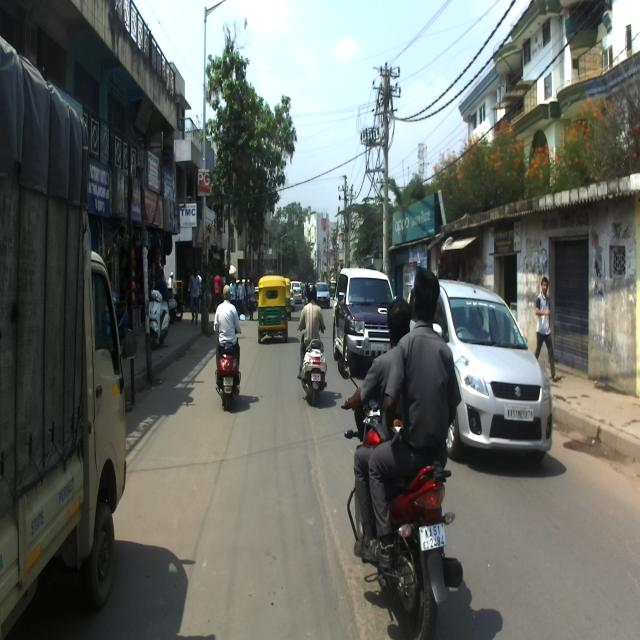auto ahead at: (256, 274, 291, 349)
motorcycle ahead at: (390, 454, 466, 640), (297, 341, 334, 411), (212, 342, 245, 411)
truck ahead at: (0, 42, 130, 640)
